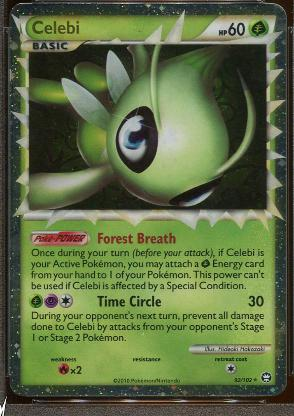Card: (6, 0, 288, 399)
